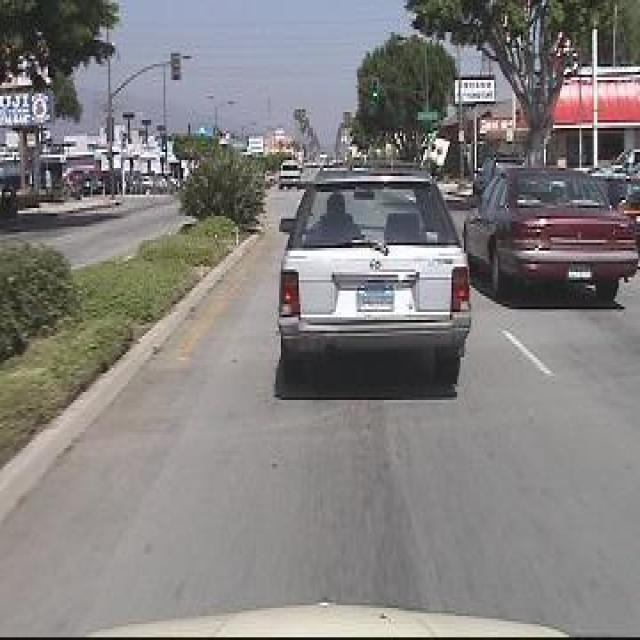car_back: (252, 152, 479, 398), (470, 150, 640, 332)
